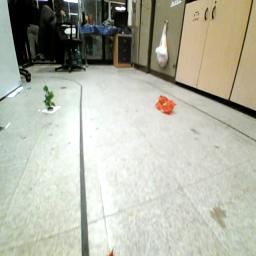herb: (43, 85, 57, 111)
wild: (156, 95, 179, 115)
